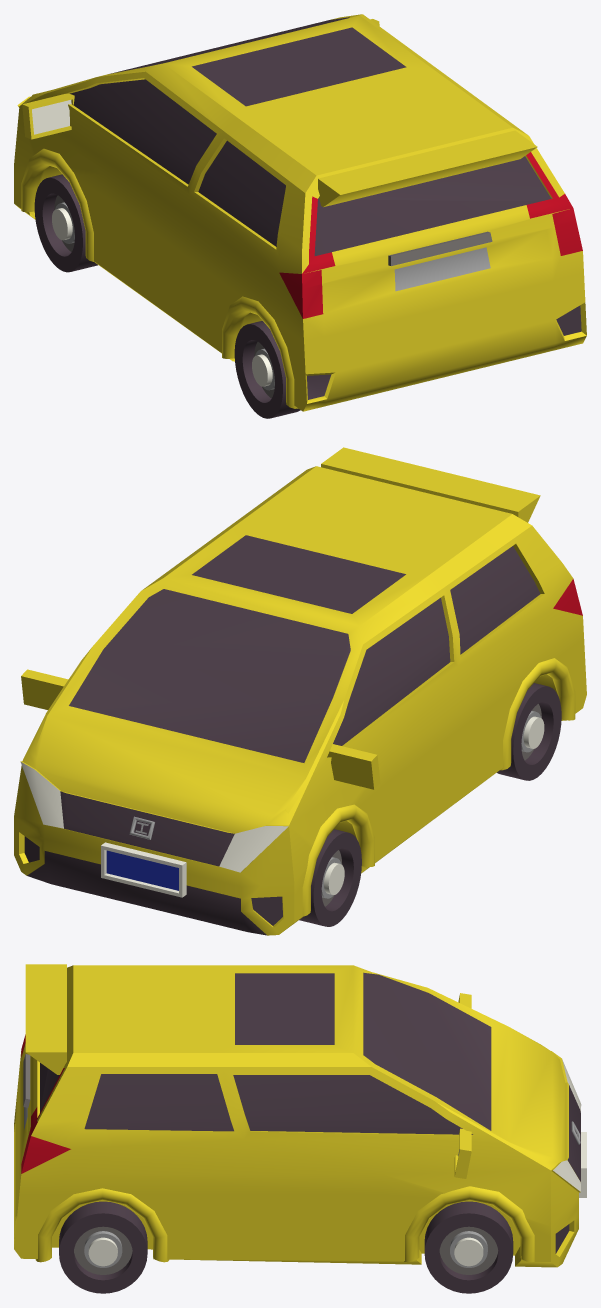
The model's file is 合适车2.fbx.
The picture shows the model from 3 angles, top to bottom: view 1: azimuth 30°, elevation 25°; view 2: azimuth 150°, elevation 25°; view 3: azimuth 270°, elevation 25°; orthographic projection. The views are drawn at different scales.
Visible parts, largest first — view 1: 圆环_5; view 2: 圆环_5; view 3: 圆环_5.
Part boxes in pixels (box(x1,y1,x2,y2)): 圆环_5: box(14, 14, 586, 418); 圆环_5: box(14, 447, 586, 935); 圆环_5: box(14, 964, 586, 1293).
Size of the model in its own units: 250 by 165 by 388.
